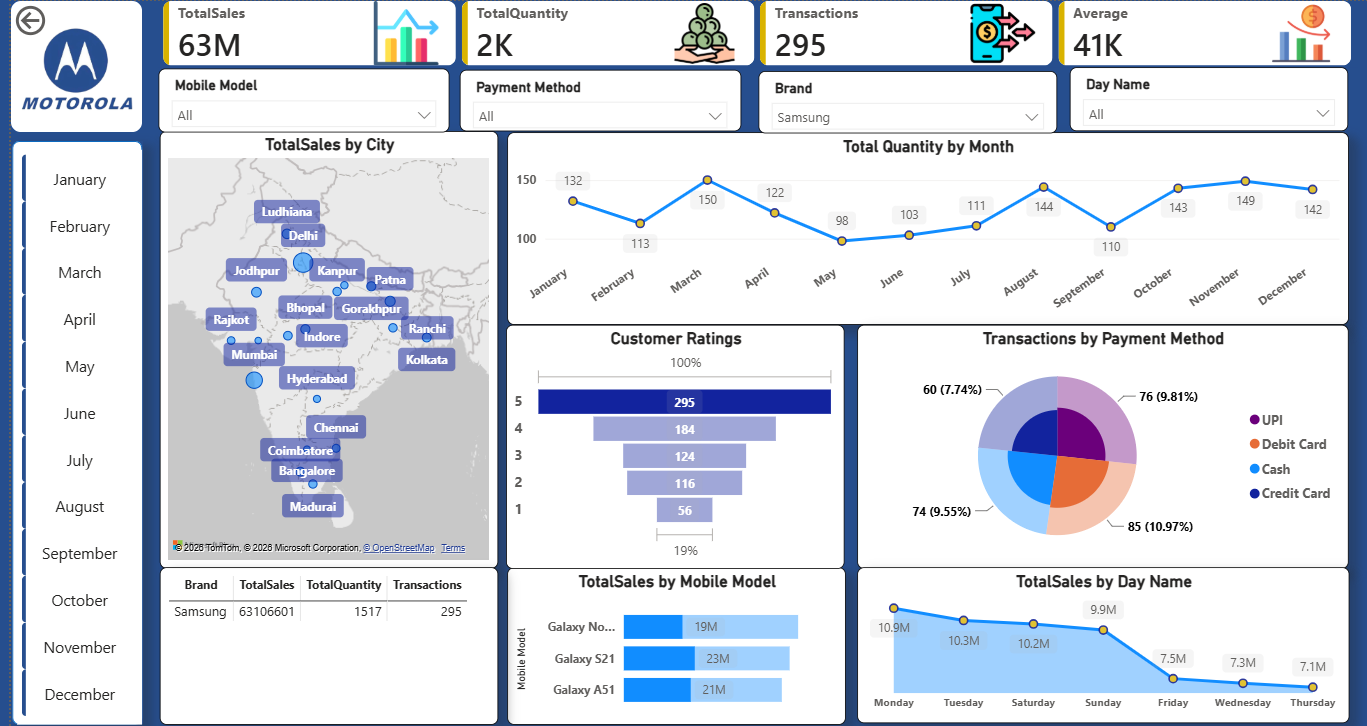

What the dashboard file says about the page in this screenshot:
{"tool":"powerbi","page":{"name":"Page 1","canvas":[1398,754],"ordinal":0},"visuals":[{"type":"image","box":[0,0,134.6,134.6],"z":0},{"type":"shape","box":[1.3,143.6,133.3,598.7],"z":1000},{"type":"advancedSlicerVisual","fields":{"Values":["Sales_Data.Date.Variation.Date Hierarchy.Month"]},"box":[6.4,152.6,128.2,589.7],"z":2000},{"type":"cardVisual","fields":{"Data":["Sales_Data.TotalSales","Sales_Data.TotalQuantity","Sales_Data.Transactions","Sales_Data.Average"]},"box":[151.3,0,1230.8,67.9],"z":3000},{"type":"map","fields":{"Category":["Sales_Data.City"],"Size":["Sales_Data.TotalSales"]},"box":[152.6,133.3,347.4,448.7],"z":4000},{"type":"lineChart","title":"Total Quantity by Month","fields":{"Category":["Sales_Data.Date.Variation.Date Hierarchy.Month","Sales_Data.Date.Variation.Date Hierarchy.Day"],"Y":["Sales_Data.TotalQuantity"]},"box":[509,134.6,862.8,197.4],"z":5000},{"type":"barChart","fields":{"Category":["Sales_Data.Mobile Model"],"Y":["Sales_Data.TotalSales"]},"box":[509,580.8,347.4,161.5],"z":6000},{"type":"pieChart","fields":{"Category":["Sales_Data.Payment Method"],"Y":["Sales_Data.Transactions"]},"box":[867.9,332.1,503.8,250],"z":7000},{"type":"funnel","title":"Customer Ratings","fields":{"Category":["Sales_Data.Customer Ratings"],"Y":["CountNonNull(Sales_Data.Customer Ratings)"]},"box":[507.7,332.1,347.4,250],"z":8000},{"type":"areaChart","fields":{"Category":["Sales_Data.Day Name"],"Y":["Sales_Data.TotalSales"]},"box":[867.9,580.8,505.1,160.3],"z":9000},{"type":"tableEx","fields":{"Values":["Sales_Data.Brand","Sales_Data.TotalSales","Sales_Data.TotalQuantity","Sales_Data.Transactions"]},"box":[152.6,580.8,347.4,161.5],"z":10000},{"type":"actionButton","box":[0,0,100,40],"z":11000},{"type":"slicer","fields":{"Values":["Sales_Data.Mobile Model"]},"box":[151.3,69.2,298.7,65.4],"z":12000},{"type":"slicer","fields":{"Values":["Sales_Data.Payment Method"]},"box":[460.3,70.5,288.5,62.8],"z":13000},{"type":"slicer","fields":{"Values":["Sales_Data.Day Name"]},"box":[1085.9,67.9,285.9,65.4],"z":14000},{"type":"slicer","fields":{"Values":["Sales_Data.Brand"]},"box":[766.7,71.8,306.4,64.1],"z":15000}]}

Visuals, with their boxes in screenshot pixels (x1, y1, x2, y2), scaled from the page's 1398x754 canvas onto the 1367x726 screenshot:
image: <bbox>0, 0, 132, 130</bbox>
shape: <bbox>1, 138, 132, 715</bbox>
advancedSlicerVisual - Sales_Data.Date.Variation.Date Hierarchy.Month: <bbox>6, 147, 132, 715</bbox>
cardVisual - Sales_Data.TotalSales x Sales_Data.TotalQuantity: <bbox>148, 0, 1351, 65</bbox>
map - Sales_Data.City x Sales_Data.TotalSales: <bbox>149, 128, 489, 560</bbox>
"Total Quantity by Month" lineChart: <bbox>498, 130, 1341, 320</bbox>
barChart - Sales_Data.Mobile Model x Sales_Data.TotalSales: <bbox>498, 559, 837, 715</bbox>
pieChart - Sales_Data.Payment Method x Sales_Data.Transactions: <bbox>849, 320, 1341, 560</bbox>
"Customer Ratings" funnel: <bbox>496, 320, 836, 560</bbox>
areaChart - Sales_Data.Day Name x Sales_Data.TotalSales: <bbox>849, 559, 1343, 714</bbox>
tableEx - Sales_Data.Brand x Sales_Data.TotalSales: <bbox>149, 559, 489, 715</bbox>
actionButton: <bbox>0, 0, 98, 39</bbox>
slicer - Sales_Data.Mobile Model: <bbox>148, 67, 440, 130</bbox>
slicer - Sales_Data.Payment Method: <bbox>450, 68, 732, 128</bbox>
slicer - Sales_Data.Day Name: <bbox>1062, 65, 1341, 128</bbox>
slicer - Sales_Data.Brand: <bbox>750, 69, 1049, 131</bbox>
